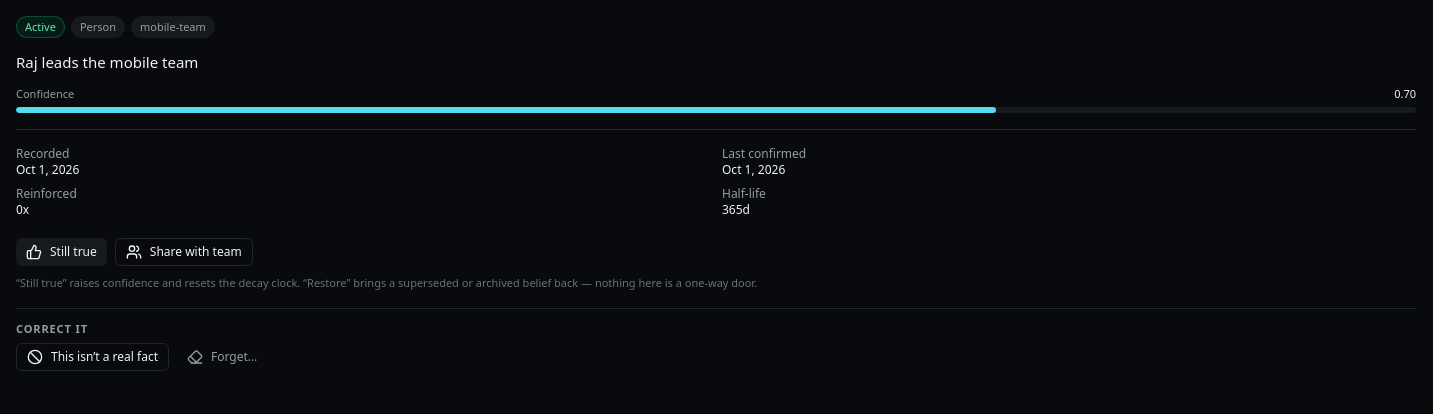
Test: sharing a memory › shares, says what the team space made of it, and opens the shared copy
Click the button "Share with team" at [184, 252], box [115, 238, 253, 266]
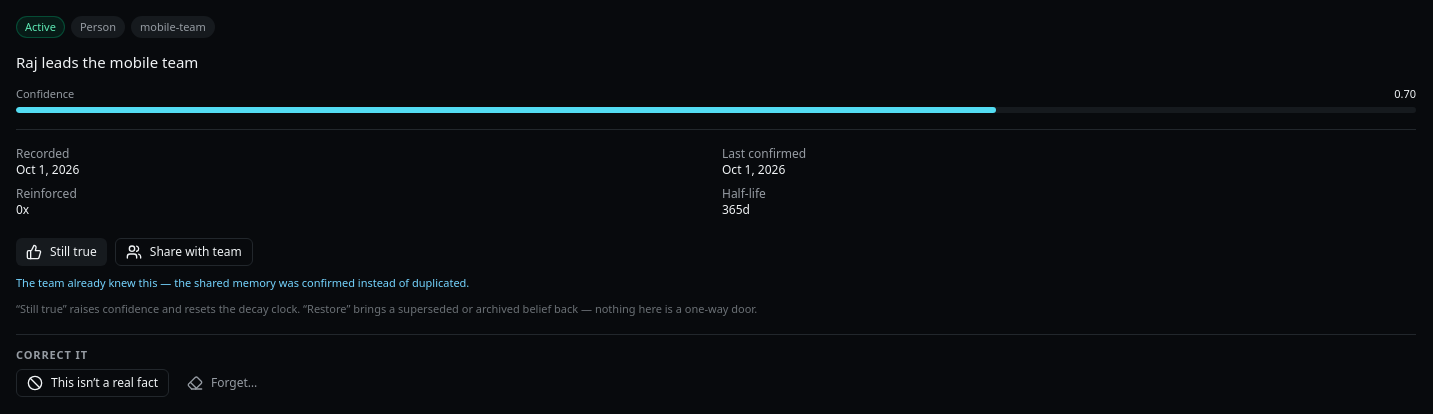
expect the text "team already knew this" is shown: met, box [16, 275, 469, 290]
